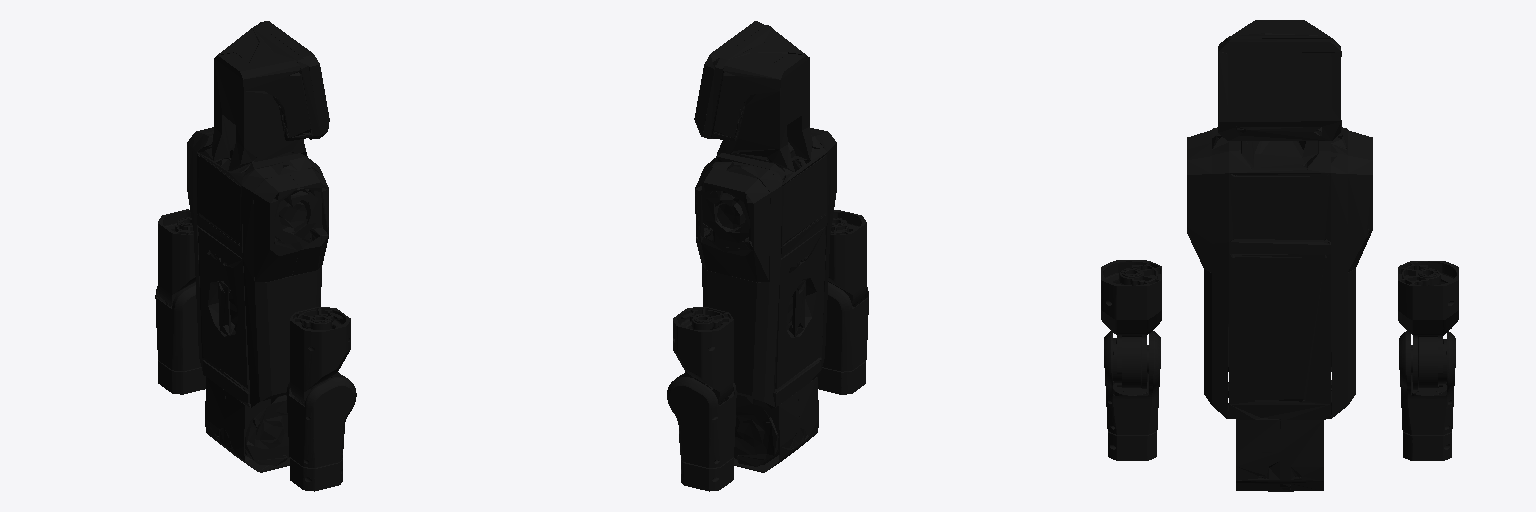
The robot description file, URDF, robot "assy_forurdf":
<?xml version="1.0" ?>
<robot name="assy_forurdf">
  <link name="base">
    <visual name="base_visual">
      <geometry name="base_geometry">
        <sphere radius="0.01"/>
      </geometry>
      <material name="base_material">
        <color rgba="1 0 0 1"/>
      </material>
      <origin xyz="0 -0.095 0" rpy="0 0 1.5708"/>
    </visual>
    <inertial name="base_inertial">
      <mass value="0.001"/>
      <inertia ixx="0.000001" iyy="0.000001" izz="0.000001" ixy="0" ixz="0" iyz="0"/>
      <origin xyz="0 -0.095 0" rpy="0 0 1.5708"/>
    </inertial>
  </link>
  <joint name="base_joint" type="fixed">
    <parent link="base"/>
    <child link="KD_B_102B_TORSO_BTM"/>
    <origin xyz="0 -0.095 0" rpy="0 0 1.5708"/>
  </joint>
  <joint name="dof_left_hip_pitch_04" type="revolute">
    <origin xyz="0.056001 0.002025 -0.073841" rpy="-1.570796 0 1.570796"/>
    <parent link="KD_B_102B_TORSO_BTM"/>
    <child link="KD_D_102L_L_Hip_Yoke_Drive"/>
    <limit effort="120" velocity="17.488" lower="-1.047198" upper="2.216568"/>
    <axis xyz="0 0 1"/>
  </joint>
  <joint name="dof_right_shoulder_pitch_03" type="revolute">
    <origin xyz="-0.120999 0.002025 0.336659" rpy="0 -1.570796 0"/>
    <parent link="KD_B_102B_TORSO_BTM"/>
    <child link="KC_C_101R_ShldYokeDrive"/>
    <limit effort="60" velocity="18.849" lower="-3.490658" upper="1.047198"/>
    <axis xyz="0 0 -1"/>
  </joint>
  <joint name="dof_left_shoulder_pitch_03" type="revolute">
    <origin xyz="0.121001 0.002025 0.336659" rpy="0 1.570796 0"/>
    <parent link="KD_B_102B_TORSO_BTM"/>
    <child link="KD_C_101L_ShldYokeDrive"/>
    <limit effort="60" velocity="18.849" lower="-1.047198" upper="3.490658"/>
    <axis xyz="0 0 -1"/>
  </joint>
  <joint name="dof_left_hip_roll_03" type="revolute">
    <origin xyz="-0.028250 0.030000 -0.071000" rpy="3.141593 -1.570796 0"/>
    <parent link="KD_D_102L_L_Hip_Yoke_Drive"/>
    <child link="L_Hip_Roll_RS03"/>
    <limit effort="60" velocity="18.849" lower="-0.209440" upper="2.268928"/>
    <axis xyz="0 0 -1"/>
  </joint>
  <joint name="dof_right_hip_pitch_04" type="revolute">
    <origin xyz="-0.055999 0.002025 -0.073841" rpy="1.570796 0 1.570796"/>
    <parent link="KD_B_102B_TORSO_BTM"/>
    <child link="KD_D_102R"/>
    <limit effort="120" velocity="17.488" lower="-2.216568" upper="1.047198"/>
    <axis xyz="0 0 1"/>
  </joint>
  <joint name="dof_right_shoulder_roll_03" type="revolute">
    <origin xyz="0 -0.024250 0.080000" rpy="1.570796 1.570796 0"/>
    <parent link="KC_C_101R_ShldYokeDrive"/>
    <child link="RS03_3"/>
    <limit effort="60" velocity="18.849" lower="-1.658063" upper="0.436332"/>
    <axis xyz="0 0 1"/>
  </joint>
  <joint name="frame_imu_site" type="fixed">
    <origin xyz="-0.013761 -0.022944 0.394547" rpy="0.011111 0 0"/>
    <parent link="KD_B_102B_TORSO_BTM"/>
    <child link="imu"/>
  </joint>
  <joint name="dof_left_shoulder_roll_03" type="revolute">
    <origin xyz="0 -0.024250 0.080000" rpy="1.570796 -1.570796 0"/>
    <parent link="KD_C_101L_ShldYokeDrive"/>
    <child link="RS03_4"/>
    <limit effort="60" velocity="18.849" lower="-0.436332" upper="1.658063"/>
    <axis xyz="0 0 1"/>
  </joint>
  <joint name="dof_right_hip_roll_03" type="revolute">
    <origin xyz="-0.028250 -0.030000 -0.071000" rpy="0 -1.570796 0"/>
    <parent link="KD_D_102R"/>
    <child link="L_Hip_Roll_RS03_2"/>
    <limit effort="60" velocity="18.849" lower="-2.268928" upper="0.209440"/>
    <axis xyz="0 0 1"/>
  </joint>
  <joint name="dof_left_hip_yaw_03" type="revolute">
    <origin xyz="0 -0.143000 0.025250" rpy="1.570796 0 -3.141593"/>
    <parent link="L_Hip_Roll_RS03"/>
    <child link="KD_D_301L_L_Femur_Lower_Drive"/>
    <limit effort="60" velocity="18.849" lower="-1.570796" upper="1.570796"/>
    <axis xyz="0 0 1"/>
  </joint>
  <joint name="dof_right_shoulder_yaw_02" type="revolute">
    <origin xyz="-0.013000 -0.142500 -0.031670" rpy="-1.570796 0 0"/>
    <parent link="RS03_3"/>
    <child link="KC_C_202R"/>
    <limit effort="17" velocity="37.699" lower="-1.671886" upper="1.671886"/>
    <axis xyz="0 0 1"/>
  </joint>
  <joint name="dof_left_shoulder_yaw_02" type="revolute">
    <origin xyz="0.013000 -0.142500 -0.030750" rpy="-1.570796 0 0"/>
    <parent link="RS03_4"/>
    <child link="KD_C_301L_LowerBicepDrive"/>
    <limit effort="17" velocity="37.699" lower="-1.671886" upper="1.671886"/>
    <axis xyz="0 0 1"/>
  </joint>
  <joint name="dof_right_hip_yaw_03" type="revolute">
    <origin xyz="0 -0.143000 -0.025250" rpy="-1.570796 0 0"/>
    <parent link="L_Hip_Roll_RS03_2"/>
    <child link="KD_D_301R"/>
    <limit effort="60" velocity="18.849" lower="-1.570796" upper="1.570796"/>
    <axis xyz="0 0 1"/>
  </joint>
  <joint name="dof_left_knee_04" type="revolute">
    <origin xyz="-0.021000 0.021000 -0.212000" rpy="1.570796 0 1.570796"/>
    <parent link="KD_D_301L_L_Femur_Lower_Drive"/>
    <child link="KD_D_401L_L_Shin_Drive"/>
    <limit effort="120" velocity="17.488" lower="0" upper="2.705260"/>
    <axis xyz="0 0 1"/>
  </joint>
  <joint name="dof_right_elbow_02" type="revolute">
    <origin xyz="0.019000 -0.010000 -0.137000" rpy="-1.570796 0 1.570796"/>
    <parent link="KC_C_202R"/>
    <child link="KC_C_401R_R_UpForearmDrive"/>
    <limit effort="17" velocity="37.699" lower="0" upper="2.478368"/>
    <axis xyz="0 0 1"/>
  </joint>
  <joint name="dof_left_elbow_02" type="revolute">
    <origin xyz="-0.019000 -0.010000 -0.137000" rpy="1.570796 0 1.570796"/>
    <parent link="KD_C_301L_LowerBicepDrive"/>
    <child link="KC_C_401L_Up_Forearm_Drive"/>
    <limit effort="17" velocity="37.699" lower="-2.478368" upper="0"/>
    <axis xyz="0 0 1"/>
  </joint>
  <joint name="dof_left_ankle_02" type="revolute">
    <origin xyz="-0.030000 -0.290000 0.000950" rpy="3.141593 0 0"/>
    <parent link="KD_D_401L_L_Shin_Drive"/>
    <child link="LFootBushing_GPF_1517_12"/>
    <limit effort="17" velocity="37.699" lower="-1.134464" upper="0.261799"/>
    <axis xyz="0 0 -1"/>
  </joint>
  <joint name="dof_right_knee_04" type="revolute">
    <origin xyz="0.021000 0.021000 -0.212000" rpy="1.570796 0 1.570796"/>
    <parent link="KD_D_301R"/>
    <child link="KD_D_401R"/>
    <limit effort="120" velocity="17.488" lower="-2.705260" upper="0"/>
    <axis xyz="0 0 -1"/>
  </joint>
  <joint name="dof_right_ankle_02" type="revolute">
    <origin xyz="-0.030000 -0.290000 -0.000950" rpy="0 0 0"/>
    <parent link="KD_D_401R"/>
    <child link="RFootBushing_GPF_1517_12"/>
    <limit effort="17" velocity="37.699" lower="-0.261799" upper="1.134464"/>
    <axis xyz="0 0 -1"/>
  </joint>
  <joint name="dof_right_wrist_00" type="revolute">
    <origin xyz="0.017350 0.103000 0.018000" rpy="-1.570796 1.570796 0"/>
    <parent link="KC_C_401R_R_UpForearmDrive"/>
    <child link="PRT0001"/>
    <limit effort="14" velocity="27.227" lower="-1.378810" upper="1.378810"/>
    <axis xyz="0 0 -1"/>
  </joint>
  <joint name="dof_left_wrist_00" type="revolute">
    <origin xyz="0.017350 -0.103000 0.018000" rpy="1.570796 -1.570796 0"/>
    <parent link="KC_C_401L_Up_Forearm_Drive"/>
    <child link="PRT0001_2"/>
    <limit effort="14" velocity="27.227" lower="-1.378810" upper="1.378810"/>
    <axis xyz="0 0 -1"/>
  </joint>
  <link name="KD_B_102B_TORSO_BTM">
    <visual name="KD_B_102B_TORSO_BTM_visual">
      <origin xyz="0 0 0" rpy="0 0 0"/>
      <geometry name="KD_B_102B_TORSO_BTM_geometry">
        <mesh filename="meshes/KD_B_102B_TORSO_BTM.stl"/>
      </geometry>
      <material name="KD_B_102B_TORSO_BTM_material">
        <color rgba="0.121569 0.121569 0.121569 1"/>
      </material>
    </visual>
    <inertial name="KD_B_102B_TORSO_BTM_inertial">
      <mass value="13.751127"/>
      <inertia ixx="0.545800" iyy="0.574453" izz="0.064293" ixy="-0.000003" ixz="0.000139" iyz="0.017791"/>
      <origin xyz="-0.000061 0.000503 0.157978" rpy="0 0 0"/>
    </inertial>
  </link>
  <link name="KD_D_102L_L_Hip_Yoke_Drive">
    <visual name="KD_D_102L_L_Hip_Yoke_Drive_visual">
      <origin xyz="0 0 0" rpy="0 0 0"/>
      <geometry name="KD_D_102L_L_Hip_Yoke_Drive_geometry">
        <mesh filename="meshes/KD_D_102L_L_Hip_Yoke_Drive.stl"/>
      </geometry>
      <material name="KD_D_102L_L_Hip_Yoke_Drive_material">
        <color rgba="0.121569 0.121569 0.121569 1"/>
      </material>
    </visual>
    <inertial name="KD_D_102L_L_Hip_Yoke_Drive_inertial">
      <mass value="0.550354"/>
      <inertia ixx="0.000930" iyy="0.001251" izz="0.001328" ixy="0.000057" ixz="-0.000041" iyz="0.000182"/>
      <origin xyz="-0.004258 0.005667 -0.040380" rpy="0 0 0"/>
    </inertial>
  </link>
  <link name="KC_C_101R_ShldYokeDrive">
    <visual name="KC_C_101R_ShldYokeDrive_visual">
      <origin xyz="0 0 0" rpy="0 0 0"/>
      <geometry name="KC_C_101R_ShldYokeDrive_geometry">
        <mesh filename="meshes/KC_C_101R_ShldYokeDrive.stl"/>
      </geometry>
      <material name="KC_C_101R_ShldYokeDrive_material">
        <color rgba="0.121569 0.121569 0.121569 1"/>
      </material>
    </visual>
    <inertial name="KC_C_101R_ShldYokeDrive_inertial">
      <mass value="0.569870"/>
      <inertia ixx="0.001409" iyy="0.001159" izz="0.001309" ixy="0" ixz="0.000001" iyz="0.000162"/>
      <origin xyz="0.003158 -0.007737 0.047375" rpy="0 0 0"/>
    </inertial>
  </link>
  <link name="KD_C_101L_ShldYokeDrive">
    <visual name="KD_C_101L_ShldYokeDrive_visual">
      <origin xyz="0 0 0" rpy="0 0 0"/>
      <geometry name="KD_C_101L_ShldYokeDrive_geometry">
        <mesh filename="meshes/KD_C_101L_ShldYokeDrive.stl"/>
      </geometry>
      <material name="KD_C_101L_ShldYokeDrive_material">
        <color rgba="0.121569 0.121569 0.121569 1"/>
      </material>
    </visual>
    <inertial name="KD_C_101L_ShldYokeDrive_inertial">
      <mass value="0.569863"/>
      <inertia ixx="0.001409" iyy="0.001159" izz="0.001309" ixy="0" ixz="-0.000001" iyz="0.000162"/>
      <origin xyz="-0.003158 -0.007737 0.047374" rpy="0 0 0"/>
    </inertial>
  </link>
  <link name="L_Hip_Roll_RS03">
    <visual name="L_Hip_Roll_RS03_visual">
      <origin xyz="0 0 0" rpy="0 0 0"/>
      <geometry name="L_Hip_Roll_RS03_geometry">
        <mesh filename="meshes/L_Hip_Roll_RS03.stl"/>
      </geometry>
      <material name="L_Hip_Roll_RS03_material">
        <color rgba="0.121569 0.121569 0.121569 1"/>
      </material>
    </visual>
    <inertial name="L_Hip_Roll_RS03_inertial">
      <mass value="2.396969"/>
      <inertia ixx="0.010350" iyy="0.003224" izz="0.010755" ixy="0.000002" ixz="0.000009" iyz="-0.000303"/>
      <origin xyz="-0.000136 -0.059376 0.026066" rpy="0 0 0"/>
    </inertial>
  </link>
  <link name="KD_D_102R">
    <visual name="KD_D_102R_visual">
      <origin xyz="0 0 0" rpy="0 0 0"/>
      <geometry name="KD_D_102R_geometry">
        <mesh filename="meshes/KD_D_102R.stl"/>
      </geometry>
      <material name="KD_D_102R_material">
        <color rgba="0.121569 0.121569 0.121569 1"/>
      </material>
    </visual>
    <inertial name="KD_D_102R_inertial">
      <mass value="0.550361"/>
      <inertia ixx="0.000930" iyy="0.001251" izz="0.001328" ixy="-0.000057" ixz="-0.000041" iyz="-0.000182"/>
      <origin xyz="-0.004258 -0.005667 -0.040379" rpy="0 0 0"/>
    </inertial>
  </link>
  <link name="RS03_3">
    <visual name="RS03_visual_3">
      <origin xyz="0 0 0" rpy="0 0 0"/>
      <geometry name="RS03_geometry_3">
        <mesh filename="meshes/RS03_3.stl"/>
      </geometry>
      <material name="RS03_material_3">
        <color rgba="0.121569 0.121569 0.121569 1"/>
      </material>
    </visual>
    <inertial name="RS03_inertial_3">
      <mass value="1.789232"/>
      <inertia ixx="0.007176" iyy="0.001972" izz="0.007602" ixy="-0.000597" ixz="-0.000001" iyz="-0.000081"/>
      <origin xyz="-0.004909 -0.041175 -0.029409" rpy="0 0 0"/>
    </inertial>
  </link>
  <link name="imu">
    <visual name="imu_visual">
      <origin xyz="0 0 0" rpy="0 0 0"/>
      <geometry name="imu_geometry">
        <mesh filename="meshes/imu.stl"/>
      </geometry>
      <material name="imu_material">
        <color rgba="0.121569 0.121569 0.121569 1"/>
      </material>
    </visual>
    <inertial name="imu_inertial">
      <mass value="0.005700"/>
      <inertia ixx="0.000001" iyy="0.000001" izz="0.000002" ixy="0" ixz="0" iyz="0"/>
      <origin xyz="0.014706 0.012343 0.002999" rpy="0 0 0"/>
    </inertial>
  </link>
  <link name="RS03_4">
    <visual name="RS03_visual_4">
      <origin xyz="0 0 0" rpy="0 0 0"/>
      <geometry name="RS03_geometry_4">
        <mesh filename="meshes/RS03_4.stl"/>
      </geometry>
      <material name="RS03_material_4">
        <color rgba="0.121569 0.121569 0.121569 1"/>
      </material>
    </visual>
    <inertial name="RS03_inertial_4">
      <mass value="1.789190"/>
      <inertia ixx="0.007175" iyy="0.001972" izz="0.007602" ixy="0.000599" ixz="0.000012" iyz="-0.000104"/>
      <origin xyz="0.004876 -0.041173 -0.029352" rpy="0 0 0"/>
    </inertial>
  </link>
  <link name="L_Hip_Roll_RS03_2">
    <visual name="L_Hip_Roll_RS03_visual_2">
      <origin xyz="0 0 0" rpy="0 0 0"/>
      <geometry name="L_Hip_Roll_RS03_geometry_2">
        <mesh filename="meshes/L_Hip_Roll_RS03_2.stl"/>
      </geometry>
      <material name="L_Hip_Roll_RS03_material_2">
        <color rgba="0.121569 0.121569 0.121569 1"/>
      </material>
    </visual>
    <inertial name="L_Hip_Roll_RS03_inertial_2">
      <mass value="2.396917"/>
      <inertia ixx="0.010350" iyy="0.003224" izz="0.010755" ixy="0.000002" ixz="-0.000009" iyz="0.000303"/>
      <origin xyz="-0.000137 -0.059376 -0.026067" rpy="0 0 0"/>
    </inertial>
  </link>
  <link name="KD_D_301L_L_Femur_Lower_Drive">
    <visual name="KD_D_301L_L_Femur_Lower_Drive_visual">
      <origin xyz="0 0 0" rpy="0 0 0"/>
      <geometry name="KD_D_301L_L_Femur_Lower_Drive_geometry">
        <mesh filename="meshes/KD_D_301L_L_Femur_Lower_Drive.stl"/>
      </geometry>
      <material name="KD_D_301L_L_Femur_Lower_Drive_material">
        <color rgba="0.121569 0.121569 0.121569 1"/>
      </material>
    </visual>
    <inertial name="KD_D_301L_L_Femur_Lower_Drive_inertial">
      <mass value="2.349254"/>
      <inertia ixx="0.015361" iyy="0.013924" izz="0.004011" ixy="-0.000189" ixz="0.001119" iyz="0.001496"/>
      <origin xyz="0.001576 0.013392 -0.172799" rpy="0 0 0"/>
    </inertial>
  </link>
  <link name="KC_C_202R">
    <visual name="KC_C_202R_visual">
      <origin xyz="0 0 0" rpy="0 0 0"/>
      <geometry name="KC_C_202R_geometry">
        <mesh filename="meshes/KC_C_202R.stl"/>
      </geometry>
      <material name="KC_C_202R_material">
        <color rgba="0.121569 0.121569 0.121569 1"/>
      </material>
    </visual>
    <inertial name="KC_C_202R_inertial">
      <mass value="0.753224"/>
      <inertia ixx="0.002457" iyy="0.002305" izz="0.000727" ixy="-0.000034" ixz="-0.000250" iyz="-0.000139"/>
      <origin xyz="0.003135 -0.003955 -0.099599" rpy="0 0 0"/>
    </inertial>
  </link>
  <link name="KD_C_301L_LowerBicepDrive">
    <visual name="KD_C_301L_LowerBicepDrive_visual">
      <origin xyz="0 0 0" rpy="0 0 0"/>
      <geometry name="KD_C_301L_LowerBicepDrive_geometry">
        <mesh filename="meshes/KD_C_301L_LowerBicepDrive.stl"/>
      </geometry>
      <material name="KD_C_301L_LowerBicepDrive_material">
        <color rgba="0.121569 0.121569 0.121569 1"/>
      </material>
    </visual>
    <inertial name="KD_C_301L_LowerBicepDrive_inertial">
      <mass value="0.866827"/>
      <inertia ixx="0.002953" iyy="0.002777" izz="0.000923" ixy="0.000016" ixz="0.000145" iyz="-0.000150"/>
      <origin xyz="0.000333 -0.002948 -0.095705" rpy="0 0 0"/>
    </inertial>
  </link>
  <link name="KD_D_301R">
    <visual name="KD_D_301R_visual">
      <origin xyz="0 0 0" rpy="0 0 0"/>
      <geometry name="KD_D_301R_geometry">
        <mesh filename="meshes/KD_D_301R.stl"/>
      </geometry>
      <material name="KD_D_301R_material">
        <color rgba="0.121569 0.121569 0.121569 1"/>
      </material>
    </visual>
    <inertial name="KD_D_301R_inertial">
      <mass value="2.349261"/>
      <inertia ixx="0.015362" iyy="0.013924" izz="0.004011" ixy="0.000189" ixz="-0.001119" iyz="0.001496"/>
      <origin xyz="-0.001577 0.013392 -0.172799" rpy="0 0 0"/>
    </inertial>
  </link>
  <link name="KD_D_401L_L_Shin_Drive">
    <visual name="KD_D_401L_L_Shin_Drive_visual">
      <origin xyz="0 0 0" rpy="0 0 0"/>
      <geometry name="KD_D_401L_L_Shin_Drive_geometry">
        <mesh filename="meshes/KD_D_401L_L_Shin_Drive.stl"/>
      </geometry>
      <material name="KD_D_401L_L_Shin_Drive_material">
        <color rgba="0.121569 0.121569 0.121569 1"/>
      </material>
    </visual>
    <inertial name="KD_D_401L_L_Shin_Drive_inertial">
      <mass value="1.684707"/>
      <inertia ixx="0.014785" iyy="0.002991" izz="0.014664" ixy="-0.000101" ixz="0.000022" iyz="0.000493"/>
      <origin xyz="-0.024116 -0.104308 0.018559" rpy="0 0 0"/>
    </inertial>
  </link>
  <link name="KC_C_401R_R_UpForearmDrive">
    <visual name="KC_C_401R_R_UpForearmDrive_visual">
      <origin xyz="0 0 0" rpy="0 0 0"/>
      <geometry name="KC_C_401R_R_UpForearmDrive_geometry">
        <mesh filename="meshes/KC_C_401R_R_UpForearmDrive.stl"/>
      </geometry>
      <material name="KC_C_401R_R_UpForearmDrive_material">
        <color rgba="0.121569 0.121569 0.121569 1"/>
      </material>
    </visual>
    <inertial name="KC_C_401R_R_UpForearmDrive_inertial">
      <mass value="0.641859"/>
      <inertia ixx="0.001302" iyy="0.000701" izz="0.001278" ixy="-0.000051" ixz="-0.000010" iyz="-0.000045"/>
      <origin xyz="0.015853 0.061198 0.015613" rpy="0 0 0"/>
    </inertial>
  </link>
  <link name="KC_C_401L_Up_Forearm_Drive">
    <visual name="KC_C_401L_Up_Forearm_Drive_visual">
      <origin xyz="0 0 0" rpy="0 0 0"/>
      <geometry name="KC_C_401L_Up_Forearm_Drive_geometry">
        <mesh filename="meshes/KC_C_401L_Up_Forearm_Drive.stl"/>
      </geometry>
      <material name="KC_C_401L_Up_Forearm_Drive_material">
        <color rgba="0.121569 0.121569 0.121569 1"/>
      </material>
    </visual>
    <inertial name="KC_C_401L_Up_Forearm_Drive_inertial">
      <mass value="0.641873"/>
      <inertia ixx="0.001303" iyy="0.000701" izz="0.001278" ixy="0.000051" ixz="-0.000010" iyz="0.000048"/>
      <origin xyz="0.015853 -0.061197 0.015921" rpy="0 0 0"/>
    </inertial>
  </link>
  <link name="LFootBushing_GPF_1517_12">
    <visual name="LFootBushing_GPF_1517_12_visual">
      <origin xyz="0 0 0" rpy="0 0 0"/>
      <geometry name="LFootBushing_GPF_1517_12_geometry">
        <mesh filename="meshes/LFootBushing_GPF_1517_12.stl"/>
      </geometry>
      <material name="LFootBushing_GPF_1517_12_material">
        <color rgba="0.121569 0.121569 0.121569 1"/>
      </material>
    </visual>
    <collision name="LFootBushing_GPF_1517_12.collision">
      <origin xyz="0 0 0" rpy="0 0 0"/>
      <geometry name="LFootBushing_GPF_1517_12_collision_geometry">
        <mesh filename="meshes/LFootBushing_GPF_1517_12.collision.stl"/>
      </geometry>
    </collision>
    <inertial name="LFootBushing_GPF_1517_12_inertial">
      <mass value="0.608966"/>
      <inertia ixx="0.000377" iyy="0.001940" izz="0.001893" ixy="0.000126" ixz="-0.000025" iyz="0.000027"/>
      <origin xyz="-0.016549 0.031142 -0.012943" rpy="0 0 0"/>
    </inertial>
  </link>
  <link name="KD_D_401R">
    <visual name="KD_D_401R_visual">
      <origin xyz="0 0 0" rpy="0 0 0"/>
      <geometry name="KD_D_401R_geometry">
        <mesh filename="meshes/KD_D_401R.stl"/>
      </geometry>
      <material name="KD_D_401R_material">
        <color rgba="0.121569 0.121569 0.121569 1"/>
      </material>
    </visual>
    <inertial name="KD_D_401R_inertial">
      <mass value="1.684717"/>
      <inertia ixx="0.014785" iyy="0.002991" izz="0.014664" ixy="-0.000101" ixz="-0.000022" iyz="-0.000494"/>
      <origin xyz="-0.024117 -0.104310 -0.018558" rpy="0 0 0"/>
    </inertial>
  </link>
  <link name="RFootBushing_GPF_1517_12">
    <visual name="RFootBushing_GPF_1517_12_visual">
      <origin xyz="0 0 0" rpy="0 0 0"/>
      <geometry name="RFootBushing_GPF_1517_12_geometry">
        <mesh filename="meshes/RFootBushing_GPF_1517_12.stl"/>
      </geometry>
      <material name="RFootBushing_GPF_1517_12_material">
        <color rgba="0.121569 0.121569 0.121569 1"/>
      </material>
    </visual>
    <collision name="RFootBushing_GPF_1517_12.collision">
      <origin xyz="0 0 0" rpy="0 0 0"/>
      <geometry name="RFootBushing_GPF_1517_12_collision_geometry">
        <mesh filename="meshes/RFootBushing_GPF_1517_12.collision.stl"/>
      </geometry>
    </collision>
    <inertial name="RFootBushing_GPF_1517_12_inertial">
      <mass value="0.608742"/>
      <inertia ixx="0.000377" iyy="0.001939" izz="0.001892" ixy="-0.000126" ixz="-0.000025" iyz="-0.000027"/>
      <origin xyz="-0.016546 -0.031136 -0.012942" rpy="0 0 0"/>
    </inertial>
  </link>
  <link name="PRT0001">
    <visual name="PRT0001_visual">
      <origin xyz="0 0 0" rpy="0 0 0"/>
      <geometry name="PRT0001_geometry">
        <mesh filename="meshes/PRT0001.stl"/>
      </geometry>
      <material name="PRT0001_material">
        <color rgba="0.121569 0.121569 0.121569 1"/>
      </material>
    </visual>
    <inertial name="PRT0001_inertial">
      <mass value="0.469028"/>
      <inertia ixx="0.000279" iyy="0.000270" izz="0.000412" ixy="0" ixz="0.000002" iyz="0"/>
      <origin xyz="0.000339 0.000063 0.027268" rpy="0 0 0"/>
    </inertial>
  </link>
  <link name="PRT0001_2">
    <visual name="PRT0001_visual_2">
      <origin xyz="0 0 0" rpy="0 0 0"/>
      <geometry name="PRT0001_geometry_2">
        <mesh filename="meshes/PRT0001_2.stl"/>
      </geometry>
      <material name="PRT0001_material_2">
        <color rgba="0.121569 0.121569 0.121569 1"/>
      </material>
    </visual>
    <inertial name="PRT0001_inertial_2">
      <mass value="0.469028"/>
      <inertia ixx="0.000279" iyy="0.000270" izz="0.000412" ixy="0" ixz="-0.000002" iyz="0"/>
      <origin xyz="-0.000339 -0.000063 0.027268" rpy="0 0 0"/>
    </inertial>
  </link>
</robot>

--- Render facts (derived) ---
The picture shows the robot from 3 angles, left to right: view 1: azimuth 30°, elevation 25°; view 2: azimuth 150°, elevation 25°; view 3: azimuth 270°, elevation 25°; orthographic projection.
Robot: assy_forurdf — 23 links, 22 joints (20 revolute, 2 fixed); root link base; default pose: every joint at zero.
Visible links, largest first — view 1: KD_B_102B_TORSO_BTM, KC_C_401R_R_UpForearmDrive, KC_C_202R, KC_C_401L_Up_Forearm_Drive, KD_C_301L_LowerBicepDrive, PRT0001, PRT0001_2; view 2: KD_B_102B_TORSO_BTM, KC_C_401L_Up_Forearm_Drive, KD_C_301L_LowerBicepDrive, KC_C_401R_R_UpForearmDrive, KC_C_202R, PRT0001_2, PRT0001; view 3: KD_B_102B_TORSO_BTM, KC_C_202R, KD_C_301L_LowerBicepDrive, KC_C_401R_R_UpForearmDrive, KC_C_401L_Up_Forearm_Drive, PRT0001_2, PRT0001.
Boxes of the visible links, <box> form: KD_B_102B_TORSO_BTM: <box>187,21,329,472</box>; KC_C_401R_R_UpForearmDrive: <box>287,377,356,467</box>; KC_C_202R: <box>290,307,350,405</box>; KC_C_401L_Up_Forearm_Drive: <box>155,282,200,370</box>; KD_C_301L_LowerBicepDrive: <box>158,209,195,306</box>; PRT0001: <box>290,457,342,491</box>; PRT0001_2: <box>158,360,205,394</box>; KD_B_102B_TORSO_BTM: <box>694,21,836,472</box>; KC_C_401L_Up_Forearm_Drive: <box>667,377,736,467</box>; KD_C_301L_LowerBicepDrive: <box>673,307,733,404</box>; KC_C_401R_R_UpForearmDrive: <box>822,282,868,371</box>; KC_C_202R: <box>828,210,866,306</box>; PRT0001_2: <box>681,457,733,491</box>; PRT0001: <box>817,361,865,394</box>; KD_B_102B_TORSO_BTM: <box>1187,20,1372,491</box>; KC_C_202R: <box>1101,260,1161,388</box>; KD_C_301L_LowerBicepDrive: <box>1398,261,1458,389</box>; KC_C_401R_R_UpForearmDrive: <box>1104,331,1160,434</box>; KC_C_401L_Up_Forearm_Drive: <box>1399,331,1455,434</box>; PRT0001_2: <box>1403,432,1451,460</box>; PRT0001: <box>1108,431,1156,460</box>.
Size in the robot's own frame: 0.1551 by 0.516 by 0.7295 metres.
7 mesh visuals loaded from 22 distinct referenced files (7 binary STL); not drawn: 15 (reference not matched to a file when rendering).